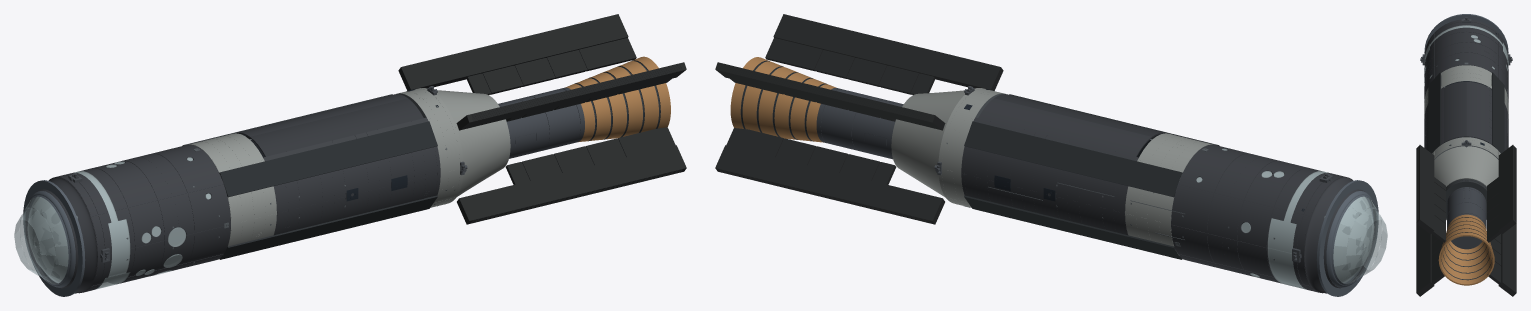
File: wayfarer_exterior_B_medical_88ce19fc_stowed_stowed.glb
The picture shows the model from 3 angles, left to right: view 1: azimuth 30°, elevation 25°; view 2: azimuth 150°, elevation 25°; view 3: azimuth 270°, elevation 25°; orthographic projection. The views are drawn at different scales.
Parts seen in each view (by area): view 1: dry:armor, dry:skin_midship, dry:hotfin_220:folded_envelope, dry:hotfin_40:folded_envelope, dry:strake_140:stowed_stack, dry:nozzle, dry:skin_service, dry:door_port, dry:hotfin_root_40:root, dry:thrust_cone, dry:hotfin_root_220:root, dry:hotfin_140:folded_envelope (+12 smaller); view 2: dry:armor, dry:skin_midship, dry:hotfin_320:folded_envelope, dry:hotfin_140:folded_envelope, dry:strake_40:stowed_stack, dry:nozzle, dry:skin_service, dry:hotfin_root_140:root, dry:door_starboard, dry:thrust_cone, dry:hotfin_root_320:root, dry:reactor (+14 smaller); view 3: dry:armor, dry:nozzle, dry:thrust_cone, dry:hotfin_40:folded_envelope, dry:hotfin_140:folded_envelope, dry:reactor, dry:door_port, dry:door_starboard, dry:hotfin_220:folded_envelope, dry:hotfin_320:folded_envelope, dry:skin_service, dry:strake_40:stowed_stack (+12 smaller).
Boxes of the visible parts, x1,y1,x2,y2 form: dry:armor: (25, 144, 230, 292); dry:skin_midship: (263, 117, 440, 235); dry:hotfin_220:folded_envelope: (457, 145, 686, 224); dry:hotfin_40:folded_envelope: (398, 14, 628, 90); dry:strake_140:stowed_stack: (219, 121, 437, 197); dry:nozzle: (565, 56, 670, 142); dry:skin_service: (187, 133, 276, 259); dry:door_port: (250, 98, 423, 156); dry:hotfin_root_40:root: (466, 38, 636, 94); dry:thrust_cone: (437, 90, 510, 196); dry:hotfin_root_220:root: (505, 127, 675, 184); dry:hotfin_140:folded_envelope: (456, 62, 686, 130); dry:armor: (1171, 144, 1376, 292); dry:skin_midship: (961, 117, 1138, 235); dry:hotfin_320:folded_envelope: (715, 145, 944, 224); dry:hotfin_140:folded_envelope: (773, 14, 1003, 90); dry:strake_40:stowed_stack: (964, 121, 1182, 197); dry:nozzle: (730, 57, 836, 142); dry:skin_service: (1125, 133, 1214, 259); dry:hotfin_root_140:root: (765, 38, 935, 94); dry:door_starboard: (978, 98, 1151, 156); dry:thrust_cone: (891, 90, 964, 197); dry:hotfin_root_320:root: (726, 128, 896, 184); dry:reactor: (816, 88, 903, 159); dry:armor: (1424, 19, 1508, 102); dry:nozzle: (1438, 214, 1494, 285); dry:thrust_cone: (1434, 146, 1498, 220); dry:hotfin_40:folded_envelope: (1498, 145, 1516, 234); dry:hotfin_140:folded_envelope: (1416, 145, 1434, 234); dry:reactor: (1447, 187, 1486, 249); dry:door_port: (1444, 82, 1466, 142); dry:door_starboard: (1466, 82, 1488, 142); dry:hotfin_220:folded_envelope: (1416, 224, 1434, 296); dry:hotfin_320:folded_envelope: (1498, 224, 1516, 296); dry:skin_service: (1424, 65, 1508, 118); dry:strake_40:stowed_stack: (1491, 72, 1504, 153).
Size of the model in its own units: 54.5 by 9.92 by 10.73.
